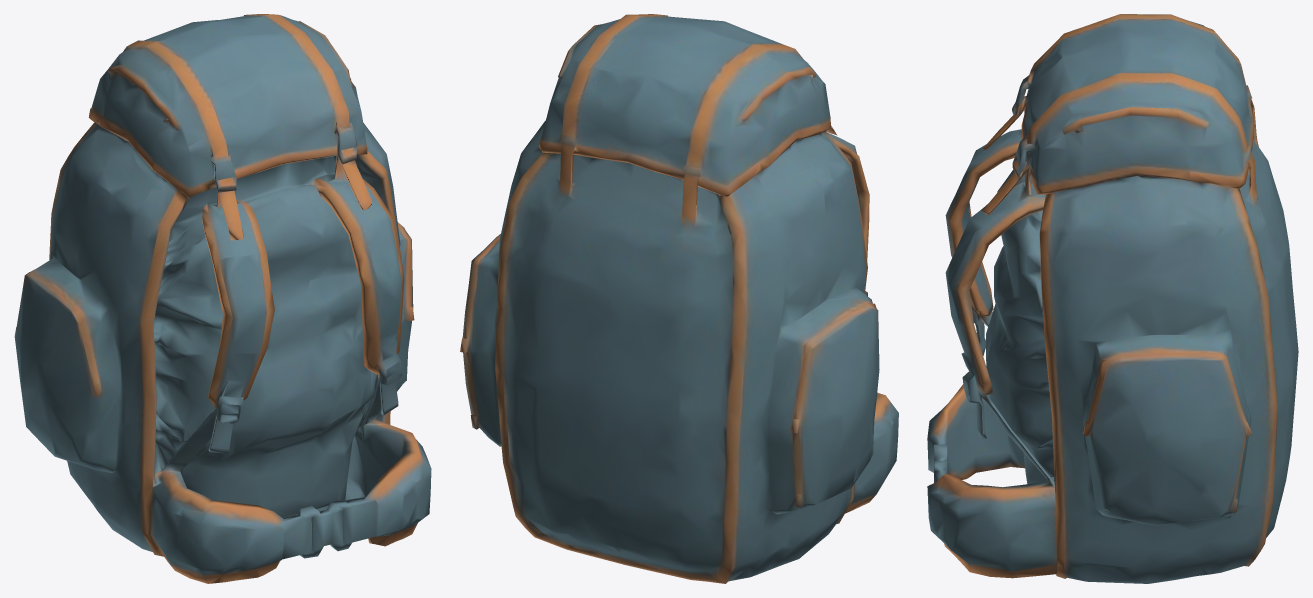
File: wing-bag.glb
3 views of the same model, side by side, from view 1: azimuth 30°, elevation 25°; view 2: azimuth 150°, elevation 25°; view 3: azimuth 270°, elevation 25° (orthographic). The views are drawn at different scales.
Parts seen in each view (by area): view 1: tripo_node_8423fe15-2c0c-47cd-8bb1-74ffea056b42; view 2: tripo_node_8423fe15-2c0c-47cd-8bb1-74ffea056b42; view 3: tripo_node_8423fe15-2c0c-47cd-8bb1-74ffea056b42.
Boxes of the visible parts, <box> form: tripo_node_8423fe15-2c0c-47cd-8bb1-74ffea056b42: <box>14,14,431,583</box>; tripo_node_8423fe15-2c0c-47cd-8bb1-74ffea056b42: <box>460,14,898,583</box>; tripo_node_8423fe15-2c0c-47cd-8bb1-74ffea056b42: <box>927,14,1298,583</box>.
Bounding box in the file's own units: 0.7824 × 1 × 0.6748.
1 material, 1 textured.
